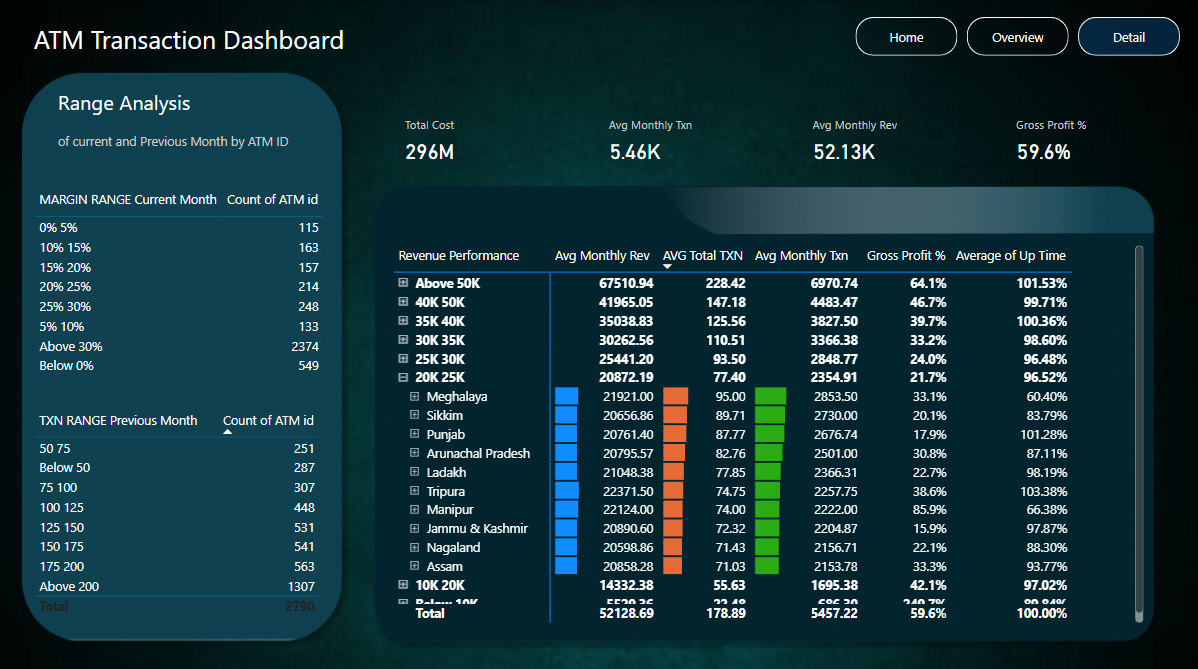

The dashboard page shown, as its layout file describes it:
{"tool":"powerbi","page":{"name":"Detail","canvas":[1280,720],"ordinal":2},"visuals":[{"type":"tableEx","fields":{"Values":["Dataset.MARGIN RANGE Current Month","Dataset.ATM id"]},"box":[31.7,196.7,331.7,235],"z":0},{"type":"tableEx","fields":{"Values":["Dataset.TXN RANGE Previous Month","Dataset.ATM id"]},"box":[31.7,431.7,315,235],"z":1000},{"type":"textbox","box":[56.7,88.3,306.7,108.3],"z":2000},{"type":"pivotTable","fields":{"Rows":["Dataset.Revenue Performance","Dataset.STATE","Dataset.ATM id"],"Values":["Avg(Dataset.Monthly Rev)","Avg(Dataset.AVG Total TXN)","Avg(Dataset.Monthly Txn)","Dataset.Gross Profit Percentage","Sum(Dataset.Up Time)"]},"box":[413.3,256.7,805,410],"z":3000},{"type":"cardVisual","fields":{"Data":["Sum(Dataset. Total Cost  )","Avg(Dataset.Monthly Txn)","Avg(Dataset.Monthly Rev)","Dataset.Gross Profit Percentage"]},"box":[413.6,108.2,866.9,70],"z":4000},{"type":"pageNavigator","box":[908.3,18.3,345,41.7],"z":5000},{"type":"textbox","box":[31.8,19.1,349.9,58.9],"z":6000}]}

Visuals, with their boxes in screenshot pixels (x1, y1, x2, y2), scaled from the page's 1280x720 canvas onto the 1198x669 screenshot:
tableEx - Dataset.MARGIN RANGE Current Month x Dataset.ATM id: [30,183,340,401]
tableEx - Dataset.TXN RANGE Previous Month x Dataset.ATM id: [30,401,324,619]
textbox: [53,82,340,183]
pivotTable - Dataset.Revenue Performance x Dataset.STATE: [387,239,1140,619]
cardVisual - Sum(Dataset. Total Cost  ) x Avg(Dataset.Monthly Txn): [387,101,1197,166]
pageNavigator: [850,17,1173,56]
textbox: [30,18,357,72]
